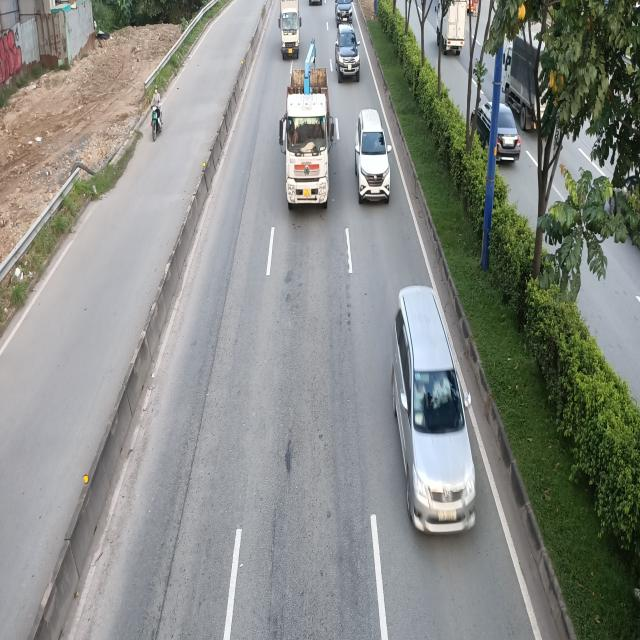car: (393, 289, 476, 540), (354, 108, 391, 206), (335, 23, 361, 81)
truck: (279, 59, 335, 210), (277, 0, 302, 58)
